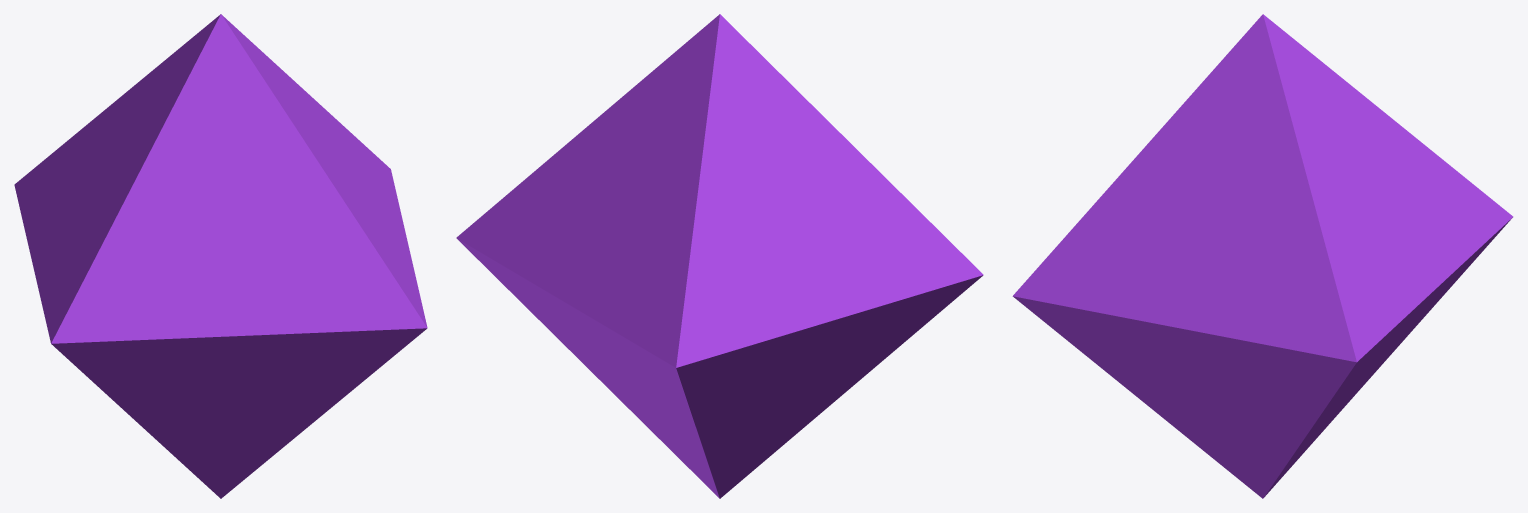
Rendered from Crystal.fbx.
3 renders of one model, left to right at view 1: azimuth 30°, elevation 25°; view 2: azimuth 150°, elevation 25°; view 3: azimuth 270°, elevation 25°, orthographic.
Visible parts, largest first — view 1: Crystal; view 2: Crystal; view 3: Crystal.
Part boxes in pixels (x1,y1,x2,y2): Crystal: (14,14,427,498); Crystal: (456,14,983,498); Crystal: (1012,14,1513,498).
Size of the model in its own units: 959 by 1024 by 959.
